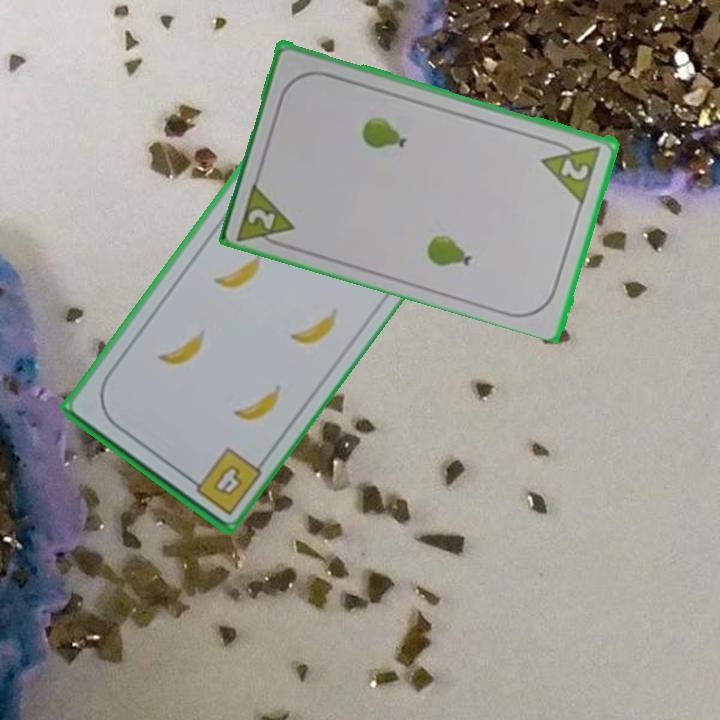2p: (233, 177, 299, 252), (538, 135, 605, 204)
4b: (182, 443, 264, 518)
